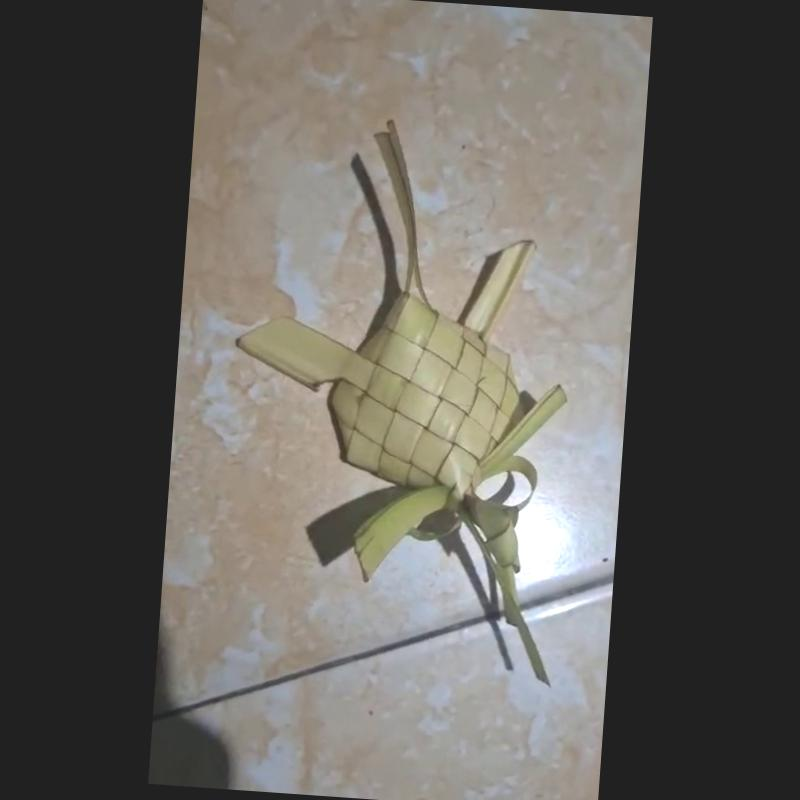Tipat Dampulan: (227, 117, 573, 684)
